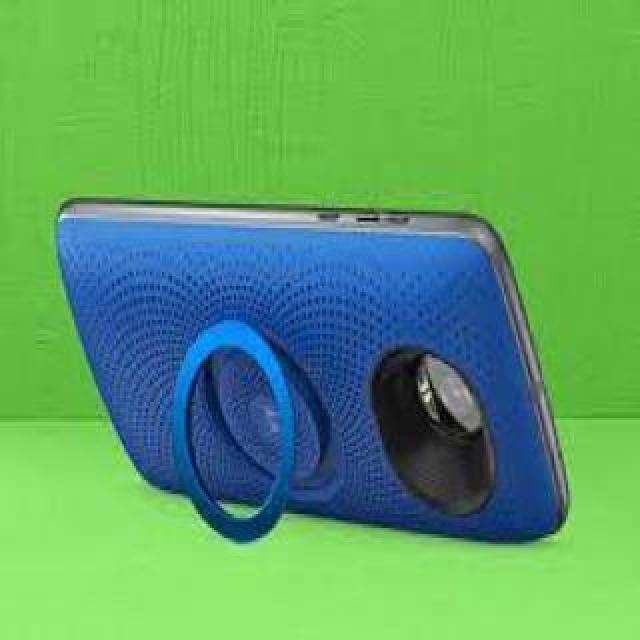smart phone: (38, 170, 585, 538)
